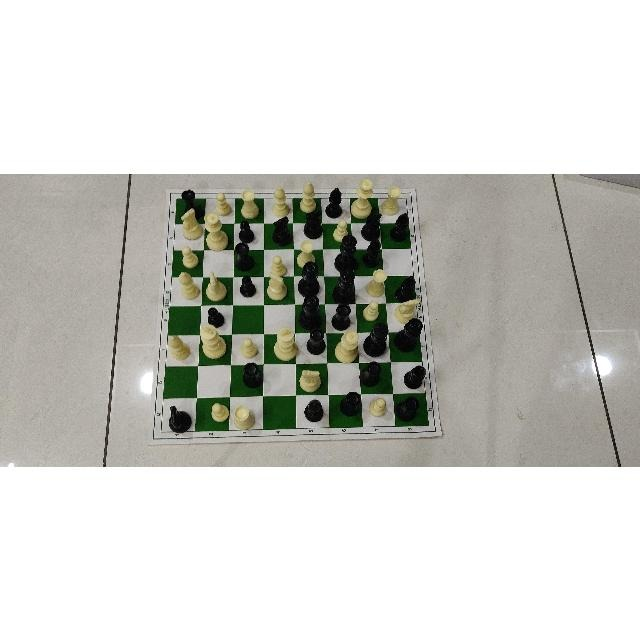black-bishop: (392, 273, 417, 301), (325, 186, 345, 218), (389, 212, 409, 240), (403, 364, 426, 388), (362, 238, 381, 266), (396, 274, 416, 300), (303, 398, 324, 422)
black-king: (363, 321, 389, 357), (362, 322, 389, 356), (332, 267, 355, 302), (335, 233, 357, 269)
black-knight: (270, 214, 293, 247), (360, 212, 384, 243), (302, 210, 326, 240), (168, 405, 192, 433)
black-pawn: (206, 306, 227, 328), (238, 220, 255, 242), (241, 273, 257, 296), (207, 306, 225, 326)
black-queen: (394, 317, 424, 351), (298, 294, 321, 327), (298, 261, 320, 295)
black-rook: (394, 394, 422, 422), (179, 188, 203, 220), (233, 240, 256, 271), (357, 360, 383, 387), (337, 389, 363, 416), (306, 328, 328, 356), (242, 360, 264, 388), (331, 302, 351, 332)
white-bishop: (166, 332, 191, 360), (299, 180, 319, 214), (271, 185, 291, 219), (178, 270, 200, 297)
white-king: (200, 322, 230, 361), (199, 323, 229, 359), (273, 325, 299, 361)
white-knight: (179, 205, 204, 240), (205, 269, 229, 301), (267, 270, 290, 302), (298, 366, 324, 394), (394, 297, 420, 323)
white-pawn: (179, 244, 202, 270), (368, 394, 388, 422), (211, 400, 231, 427), (361, 299, 381, 323), (269, 254, 289, 278), (240, 335, 260, 358), (241, 335, 259, 359), (214, 192, 231, 214), (333, 218, 348, 242), (362, 300, 379, 320)
white-queen: (349, 177, 375, 219), (204, 210, 230, 251), (335, 329, 359, 363)
white-rook: (365, 267, 389, 297), (381, 186, 403, 216), (233, 404, 257, 429), (367, 269, 387, 297), (241, 189, 259, 219), (296, 239, 315, 267)
